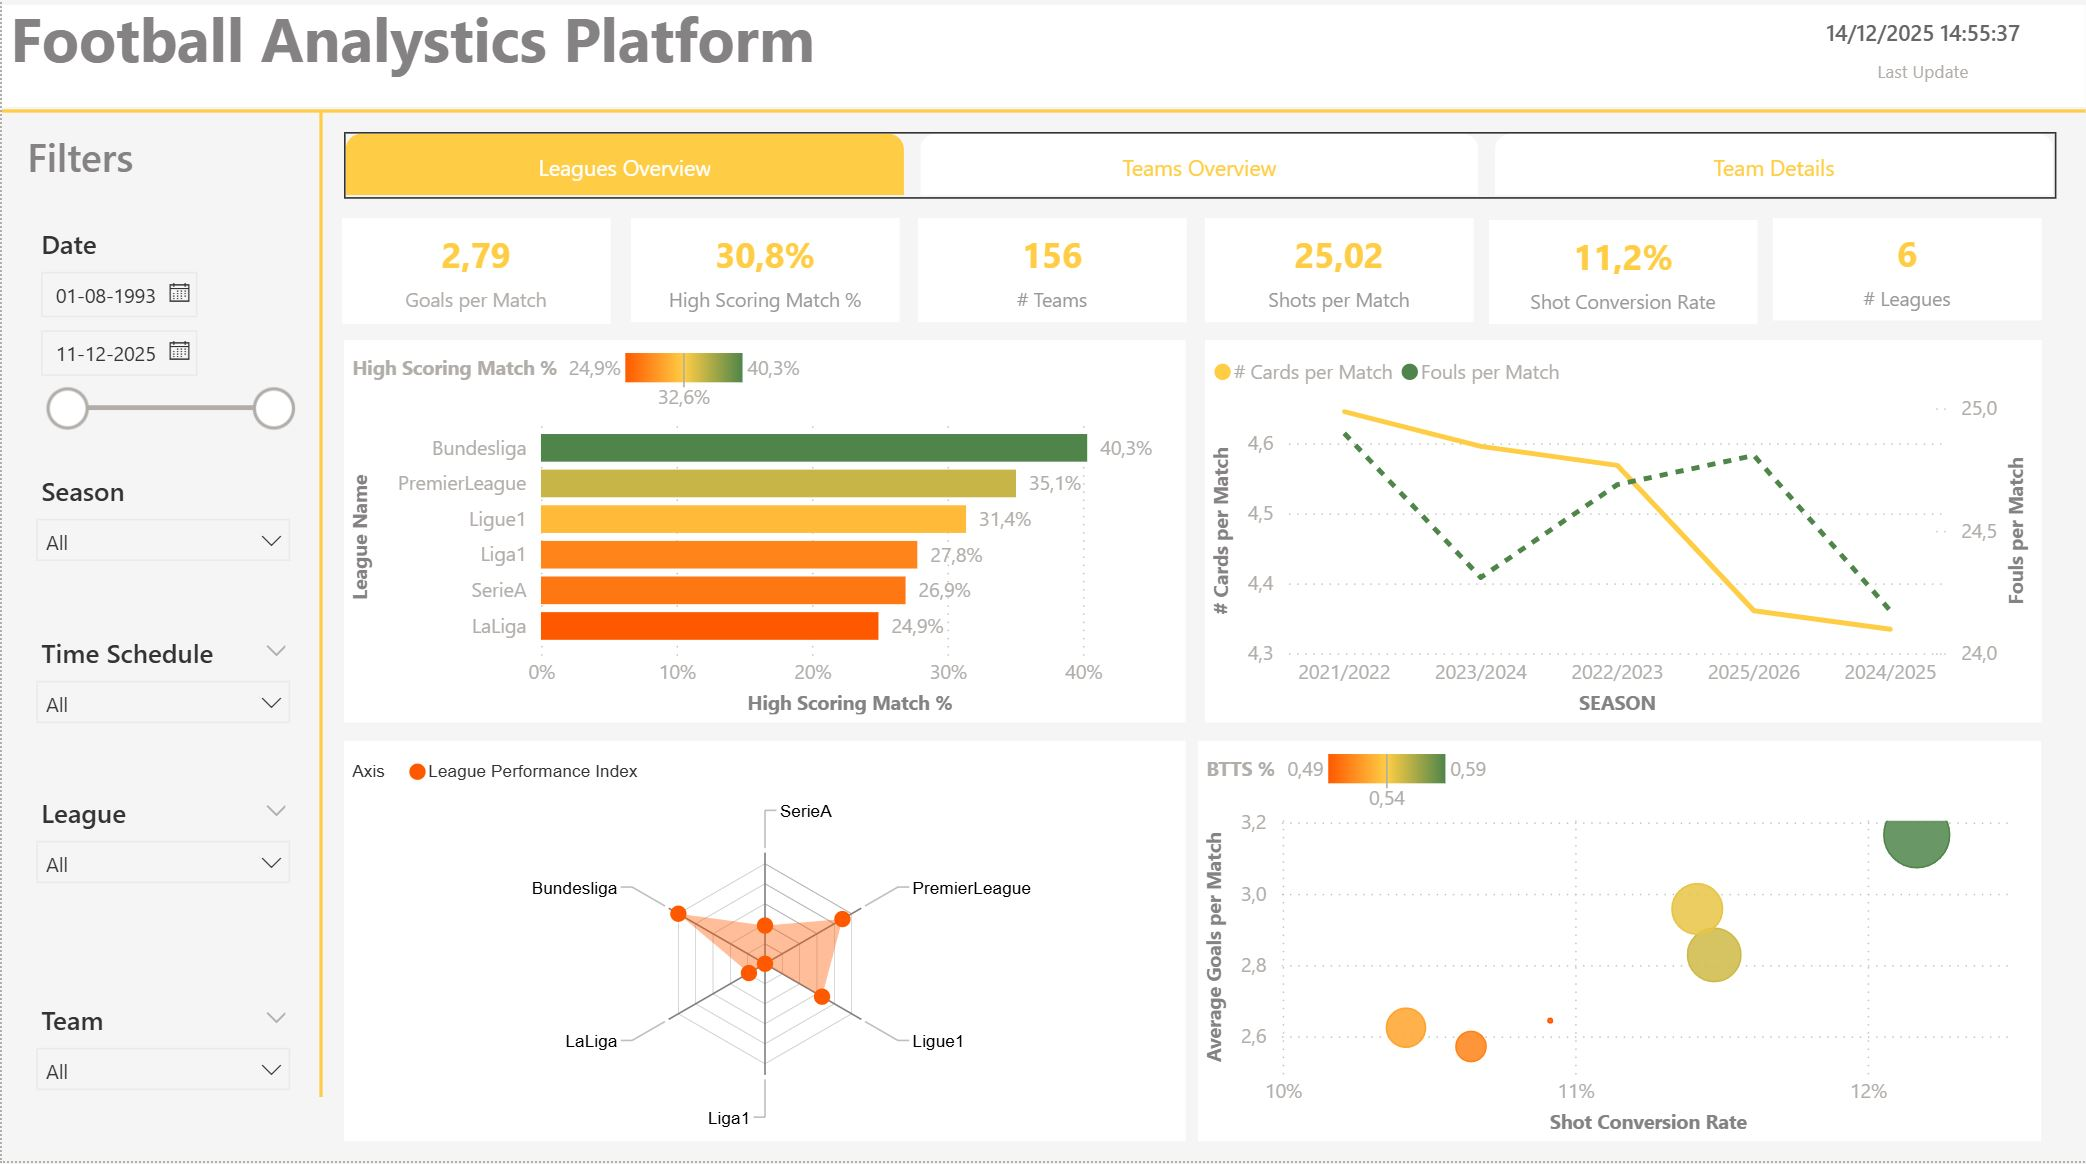

The dashboard page shown, as its layout file describes it:
{"tool":"powerbi","page":{"name":"Leagues Overview","canvas":[1280,720],"ordinal":0},"visuals":[{"type":"shape","box":[0,10,1280.3,62.7],"z":0},{"type":"slicer","fields":{"Values":["dim_date.SEASON"]},"box":[10.9,292.7,176.4,90],"z":1000},{"type":"slicer","title":"League","fields":{"Values":["dim_leagues.LEAGUE_NAME"]},"box":[10.9,490,176.4,89.1],"z":2000},{"type":"slicer","title":"League","fields":{"Values":["dim_teams.TEAM_NAME"]},"box":[10.9,617.3,176.4,90.9],"z":3000},{"type":"card","fields":{"Values":["MainMeasures.High Scoring Match %"]},"box":[386.4,140.9,164.5,63.6],"z":4000},{"type":"card","fields":{"Values":["MainMeasures.Shots per Match"]},"box":[739.1,140.9,164.5,63.6],"z":5000},{"type":"card","fields":{"Values":["MainMeasures.Goals per Match"]},"box":[209.1,140.9,164.5,64.5],"z":6000},{"type":"card","fields":{"Values":["MainMeasures.# teams"]},"box":[562.7,140.9,164.5,63.6],"z":7000},{"type":"card","fields":{"Values":["MainMeasures.Shot Conversion Rate"]},"box":[913.6,141.8,164.5,63.6],"z":8000},{"type":"barChart","fields":{"Category":["dim_leagues.LEAGUE_NAME"],"Y":["MainMeasures.High Scoring Match %"]},"box":[210,215.5,517.3,235.5],"z":9000},{"type":"lineChart","fields":{"Category":["dim_date.SEASON"],"Y":["MainMeasures.# Cards per Match"],"Y2":["MainMeasures.Fouls per Match"]},"box":[739.1,215.5,513.6,235.5],"z":10000},{"type":"scatterChart","title":"Shot CR, Win Rate % & Goals","fields":{"Category":["dim_leagues.LEAGUE_NAME"],"X":["MainMeasures.Shot Conversion Rate"],"Size":["MainMeasures.BTTS %"],"Y":["MainMeasures.Average Goals per Match"]},"box":[734.5,461.8,518.2,246.4],"z":11000},{"type":"RadarChart1446119667547","fields":{"Category":["dim_leagues.LEAGUE_NAME"],"Y":["MainMeasures.League Performance Index"]},"box":[210,461.8,517.3,246.4],"z":12000},{"type":"slicer","fields":{"Values":["dim_date.DATE_VALUE"]},"box":[10.9,140.9,176.4,151.8],"z":13000},{"type":"card","fields":{"Values":["MainMeasures.# Leagues"]},"box":[1088.2,140.9,164.5,62.7],"z":14000},{"type":"slicer","fields":{"Values":["fact_matches.MATCH_TIME"]},"box":[10.9,391.8,176.4,90],"z":15000},{"type":"pageNavigator","box":[210.1,87.8,1052.4,40.5],"z":16000},{"type":"textbox","box":[10.4,81.7,193.5,52.8],"z":17000},{"type":"textbox","box":[0,0,787,62.7],"z":18000},{"type":"card","fields":{"Values":["MainMeasures.Last Update"]},"box":[1103.3,10.4,153.6,52.2],"z":19000},{"type":"shape","box":[0,37.5,1280.3,74.9],"z":20000},{"type":"shape","box":[181.8,74.9,28.3,605.7],"z":21000}]}

Visuals, with their boxes in screenshot pixels (x1, y1, x2, y2), scaled from the page's 1280x720 canvas onto the 2086x1164 screenshot:
shape: x1=0, y1=16, x2=2085, y2=118
slicer - dim_date.SEASON: x1=18, y1=473, x2=305, y2=619
"League" slicer: x1=18, y1=792, x2=305, y2=936
"League" slicer: x1=18, y1=998, x2=305, y2=1145
card - MainMeasures.High Scoring Match %: x1=630, y1=228, x2=898, y2=331
card - MainMeasures.Shots per Match: x1=1205, y1=228, x2=1473, y2=331
card - MainMeasures.Goals per Match: x1=341, y1=228, x2=609, y2=332
card - MainMeasures.# teams: x1=917, y1=228, x2=1185, y2=331
card - MainMeasures.Shot Conversion Rate: x1=1489, y1=229, x2=1757, y2=332
barChart - dim_leagues.LEAGUE_NAME x MainMeasures.High Scoring Match %: x1=342, y1=348, x2=1185, y2=729
lineChart - dim_date.SEASON x MainMeasures.# Cards per Match: x1=1205, y1=348, x2=2042, y2=729
"Shot CR, Win Rate % & Goals" scatterChart: x1=1197, y1=747, x2=2042, y2=1145
RadarChart1446119667547 - dim_leagues.LEAGUE_NAME x MainMeasures.League Performance Index: x1=342, y1=747, x2=1185, y2=1145
slicer - dim_date.DATE_VALUE: x1=18, y1=228, x2=305, y2=473
card - MainMeasures.# Leagues: x1=1773, y1=228, x2=2042, y2=329
slicer - fact_matches.MATCH_TIME: x1=18, y1=633, x2=305, y2=779
pageNavigator: x1=342, y1=142, x2=2057, y2=207
textbox: x1=17, y1=132, x2=332, y2=217
textbox: x1=0, y1=0, x2=1283, y2=101
card - MainMeasures.Last Update: x1=1798, y1=17, x2=2048, y2=101
shape: x1=0, y1=61, x2=2085, y2=182
shape: x1=296, y1=121, x2=342, y2=1100
